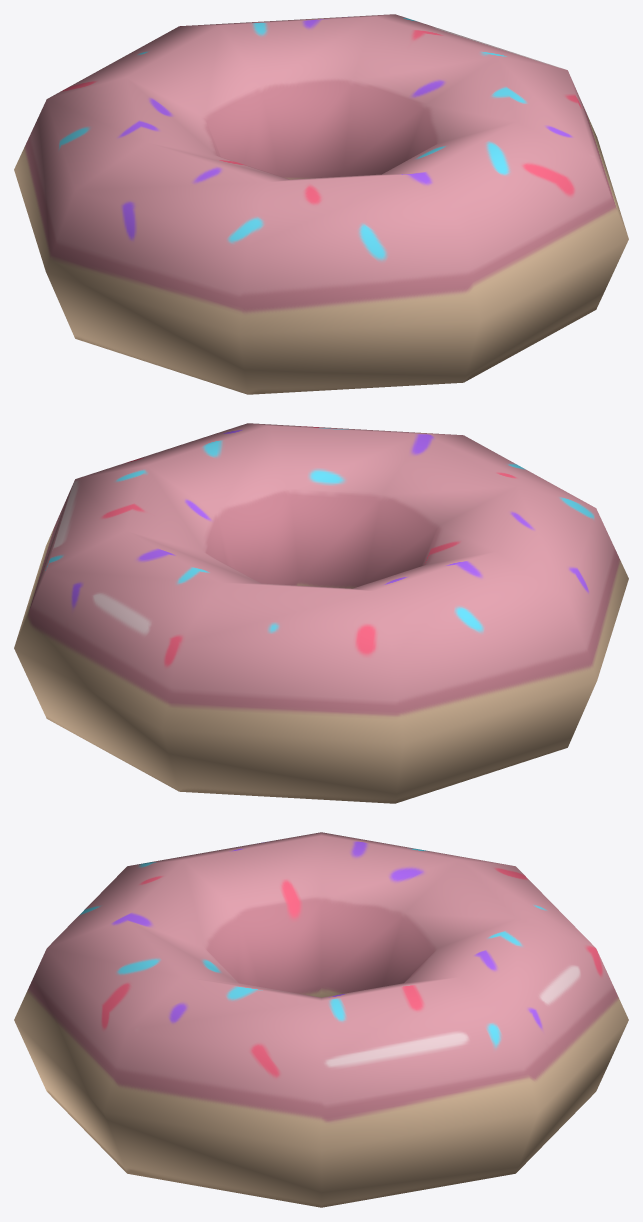
The model's file is Donut.fbx.
3 renders of one model, top to bottom at view 1: azimuth 30°, elevation 25°; view 2: azimuth 150°, elevation 25°; view 3: azimuth 270°, elevation 25°, orthographic. The views are drawn at different scales.
Parts seen in each view (by area): view 1: Donut1; view 2: Donut1; view 3: Donut1.
Part boxes in pixels (left/top/right/bottom): Donut1: left=14, top=14, right=628, bottom=394; Donut1: left=14, top=423, right=628, bottom=803; Donut1: left=14, top=832, right=628, bottom=1207.
Bounding box in the file's own units: 6.6 × 2.4 × 6.6.
